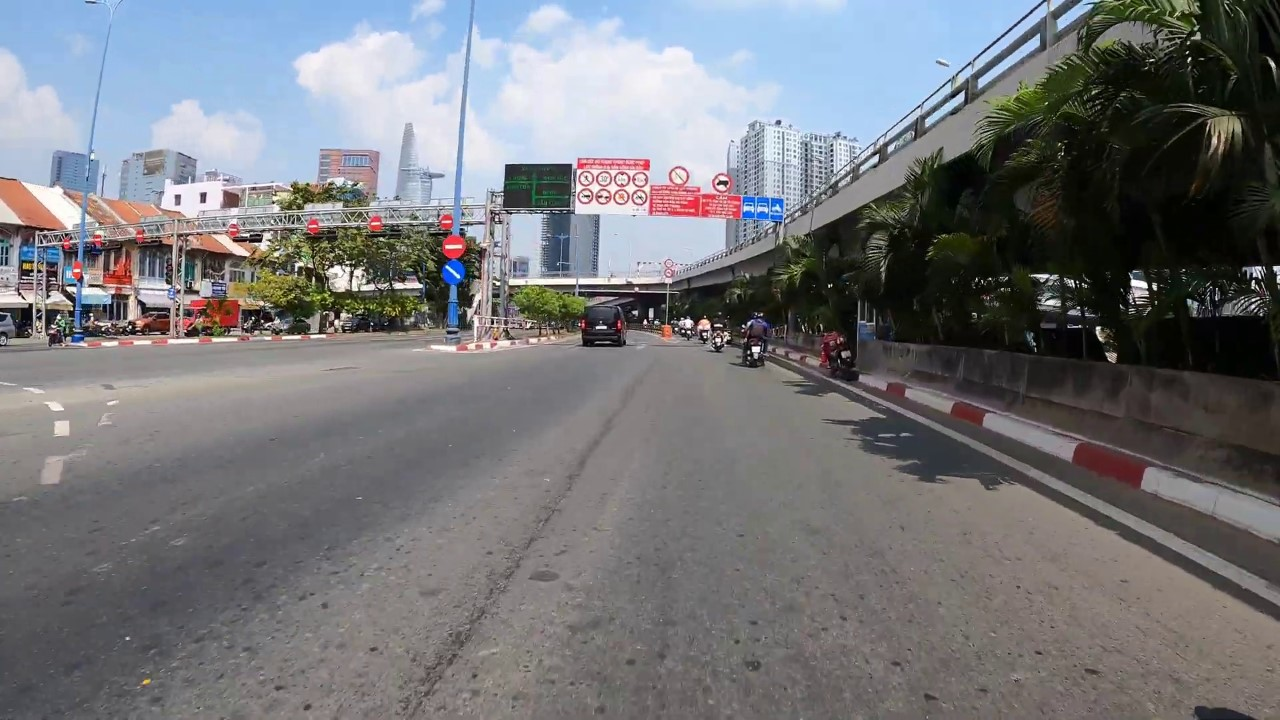cam_nguoc_chieu: (442, 235, 467, 259), (71, 261, 84, 280), (439, 214, 454, 230), (369, 215, 382, 231), (307, 218, 319, 234), (228, 223, 239, 238), (93, 233, 102, 247), (135, 229, 143, 243), (63, 237, 70, 249)
huong_phai_di_vong: (441, 260, 465, 285)
